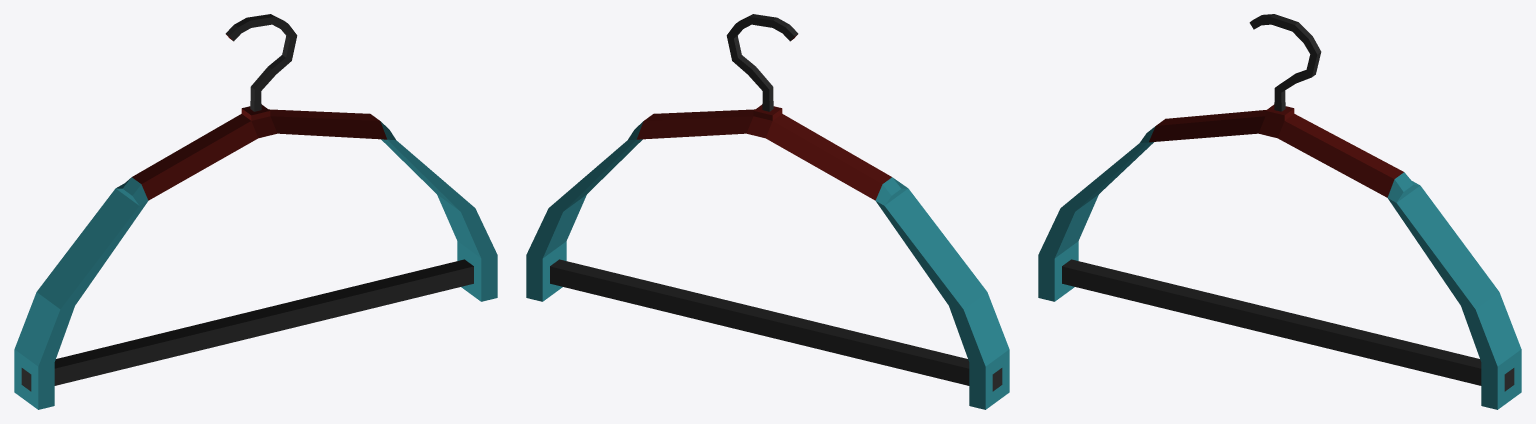
File: Clothes Hanger 8.fbx
The picture shows the model from 3 angles, left to right: view 1: azimuth 30°, elevation 25°; view 2: azimuth 150°, elevation 25°; view 3: azimuth 330°, elevation 25°; orthographic projection.
Parts seen in each view (by area): view 1: Node 0; view 2: Node 0; view 3: Node 0.
Boxes of the visible parts, <box> form: Node 0: <box>14,14,497,409</box>; Node 0: <box>526,14,1009,409</box>; Node 0: <box>1038,14,1521,409</box>.
Bounding box in the file's own units: 0.0501 × 0.3797 × 0.5564.
